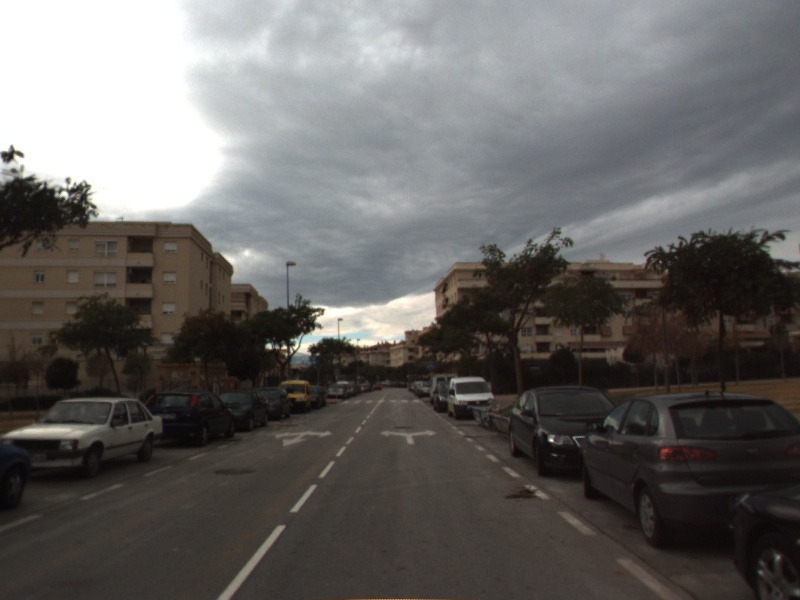LEFT_RIGHT: (378, 427, 439, 446)
